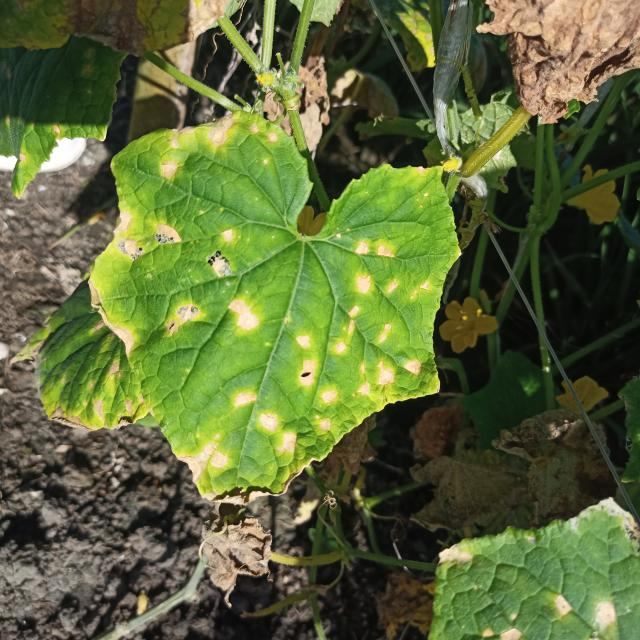disease_cucumber: (95, 113, 454, 496)
